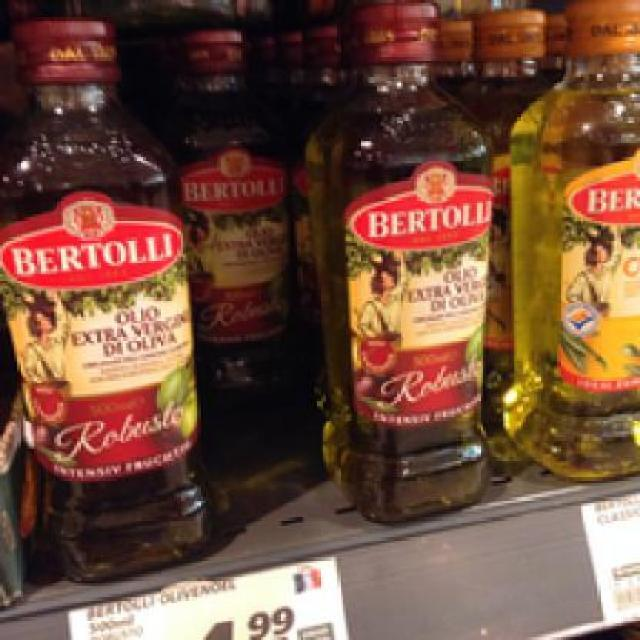Oil: (2, 14, 215, 586), (302, 3, 498, 520), (494, 0, 637, 480), (165, 14, 288, 392)
